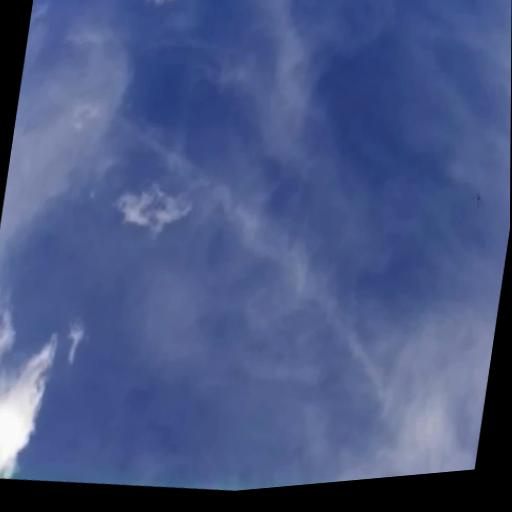drones: (469, 189, 485, 209)
